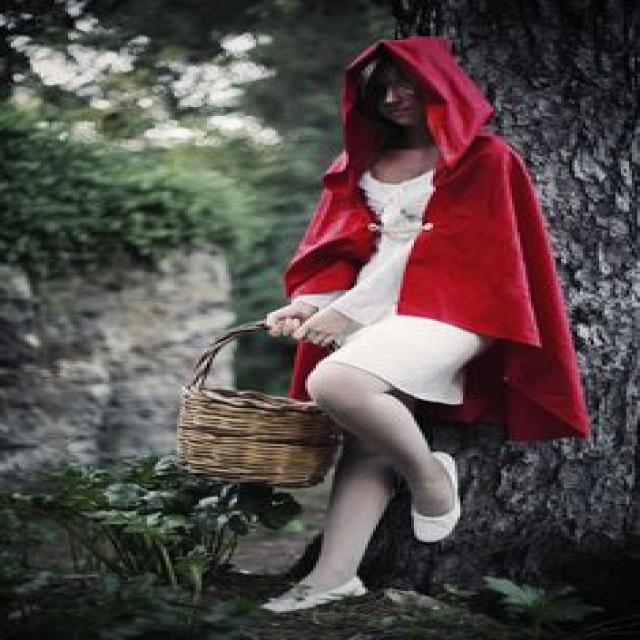4_capucha: (336, 36, 492, 170)
